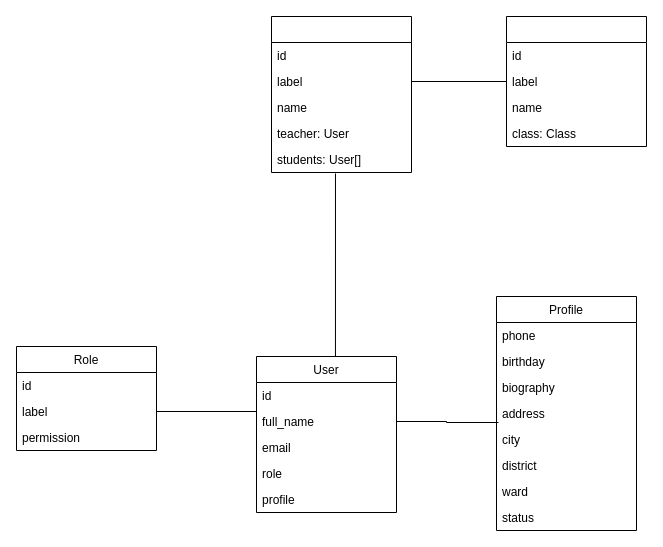
Some shapes in this 663 by 547 pixel diagram are drawn without their labels. The box of each missing label's shape, as (x1, y1, x2, y2) in pixels:
Class: (270, 16, 412, 172)
Courses: (506, 16, 646, 146)
